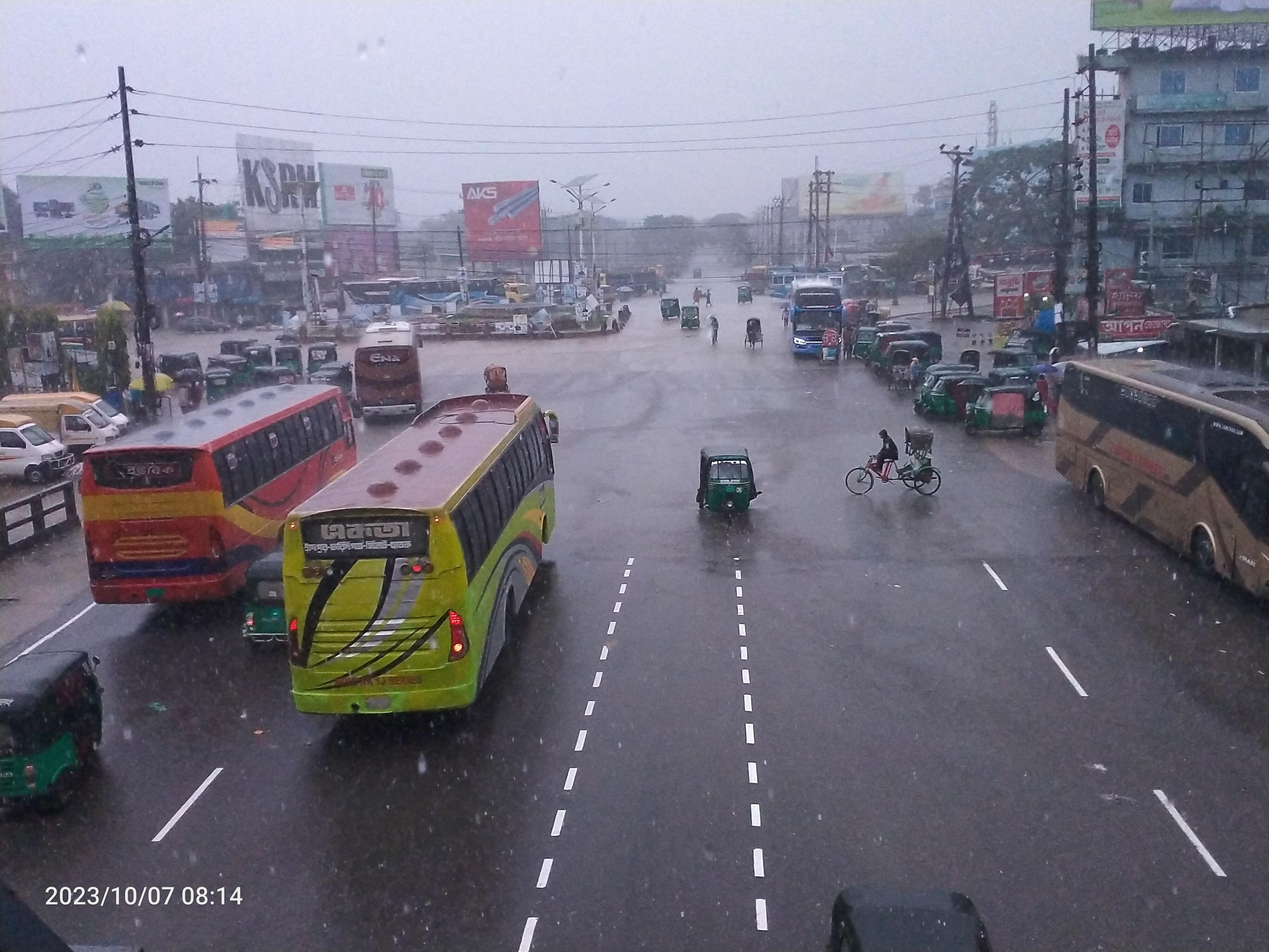Bus: (286, 384, 573, 758), (82, 374, 363, 640), (1049, 352, 1269, 613), (345, 308, 428, 436), (396, 266, 518, 331), (781, 270, 849, 373), (328, 272, 397, 326)
Car: (832, 406, 953, 526), (733, 305, 779, 359), (470, 355, 520, 402)
